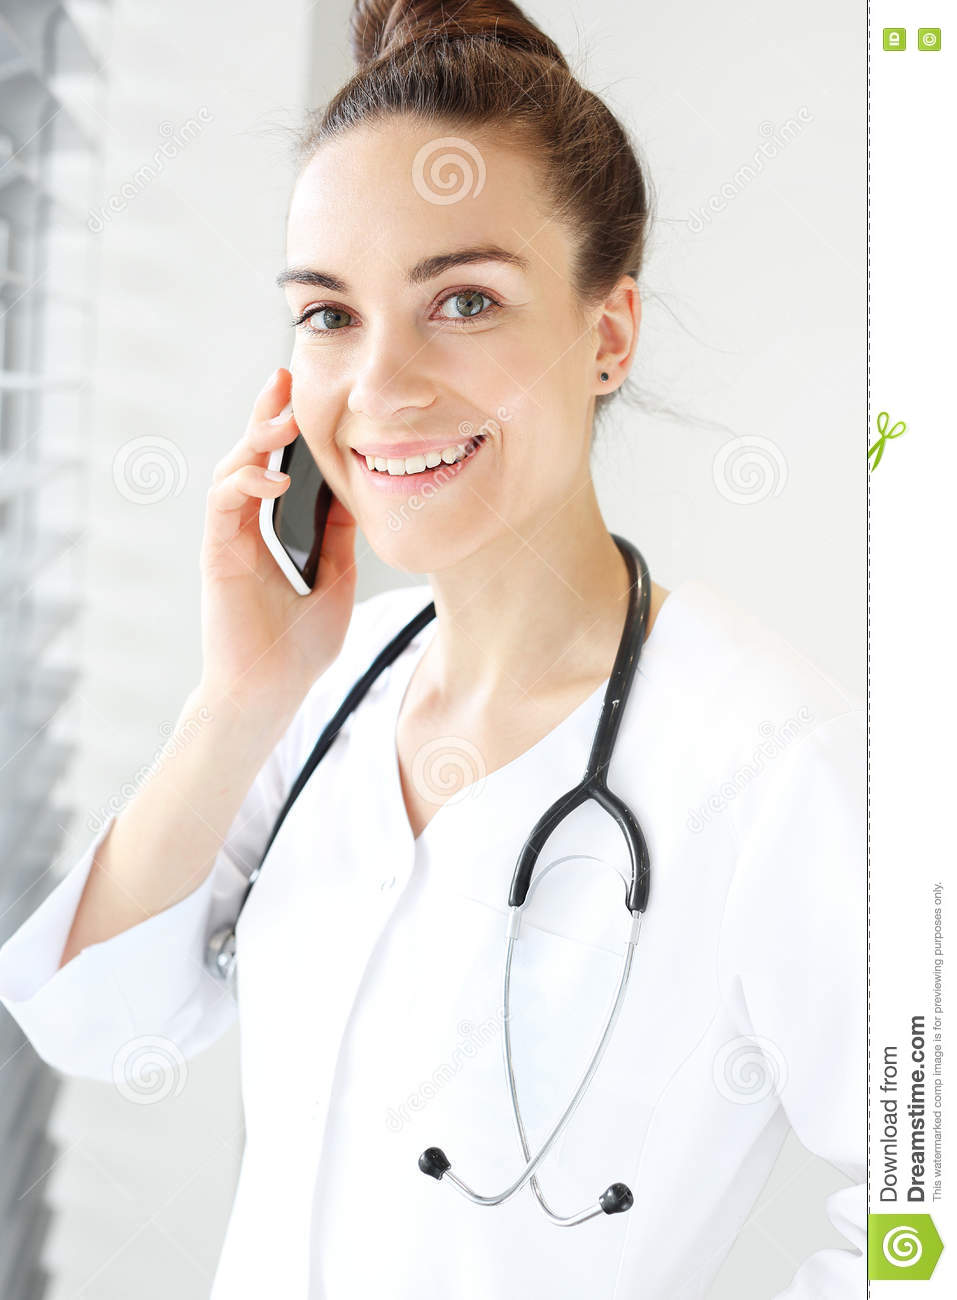phone: (250, 384, 335, 603)
talk: (190, 232, 542, 714)
